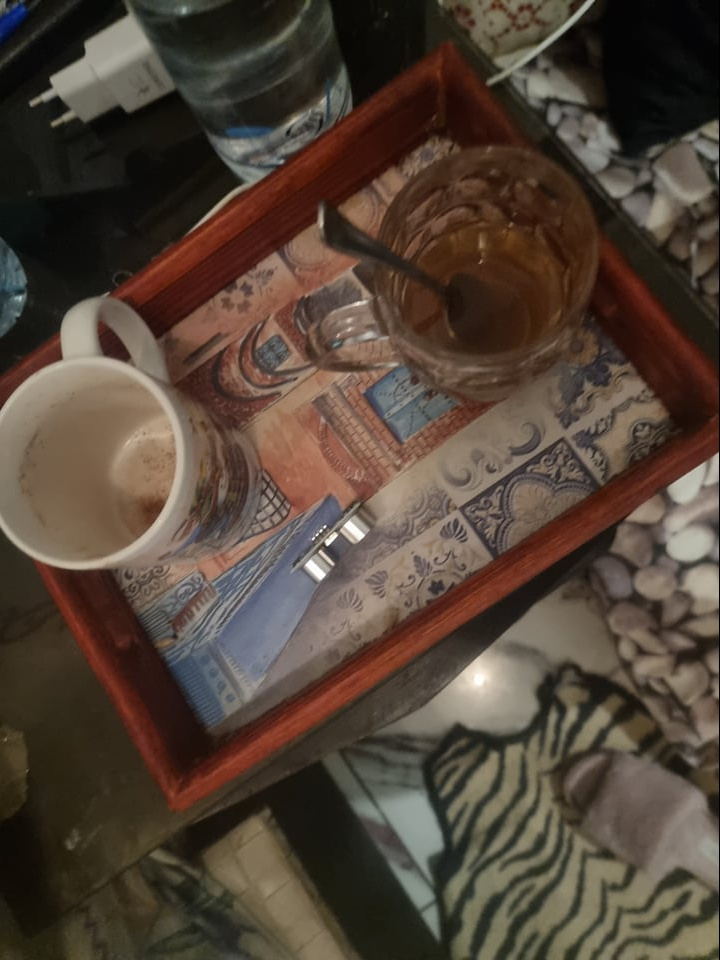SENSOR: (291, 498, 383, 588)
